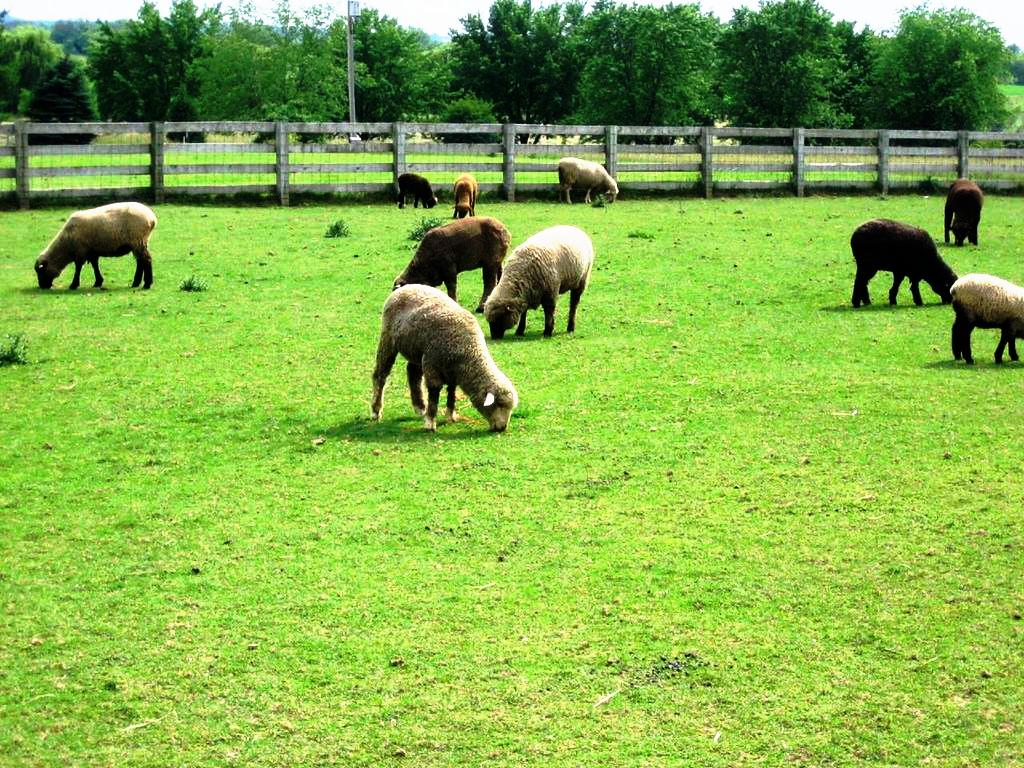Sheep: (368, 280, 518, 434), (483, 219, 595, 341), (394, 212, 514, 314), (32, 200, 160, 290), (848, 216, 960, 307), (946, 272, 1024, 363), (555, 154, 619, 204), (941, 176, 987, 243), (397, 170, 440, 210), (450, 173, 478, 219)
